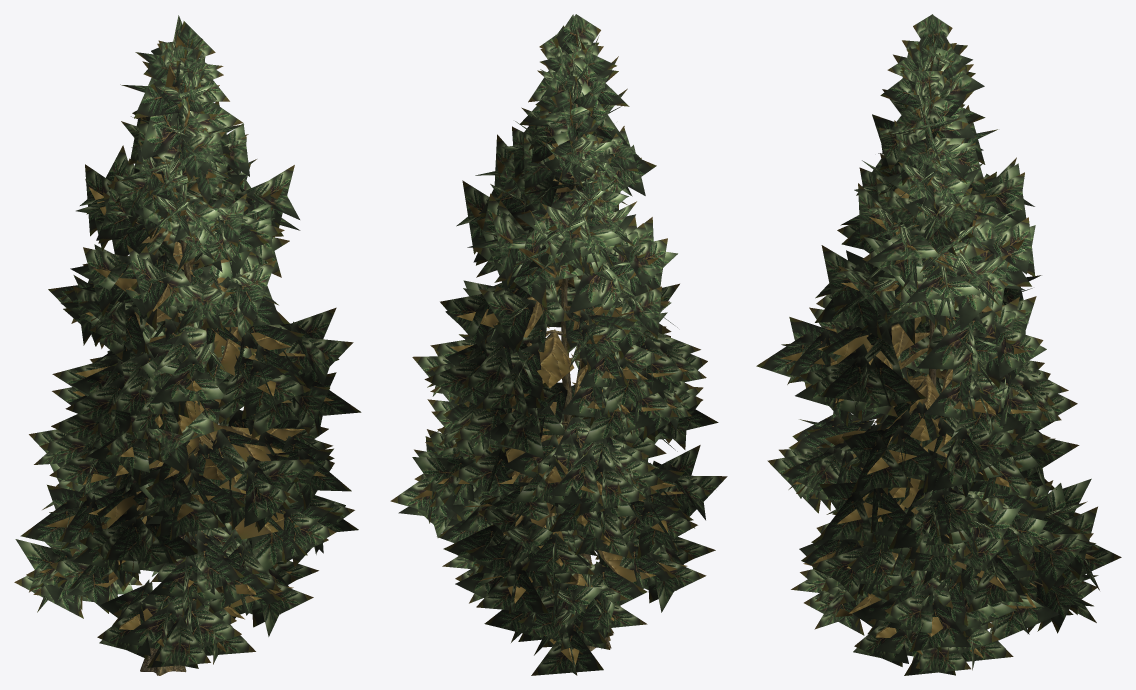
Rendered from PineMed2.fbx.
3 views of the same model, side by side, from view 1: azimuth 30°, elevation 25°; view 2: azimuth 150°, elevation 25°; view 3: azimuth 270°, elevation 25° (orthographic). The views are drawn at different scales.
Visible parts, largest first — view 1: PineMed2_LOD0; view 2: PineMed2_LOD0; view 3: PineMed2_LOD0.
Boxes of the visible parts, <box> form: PineMed2_LOD0: <box>14,15,361,675</box>; PineMed2_LOD0: <box>390,14,727,675</box>; PineMed2_LOD0: <box>756,14,1121,675</box>.
Size of what is drawn, in the model's own units: 8.31 by 17.05 by 8.62.
